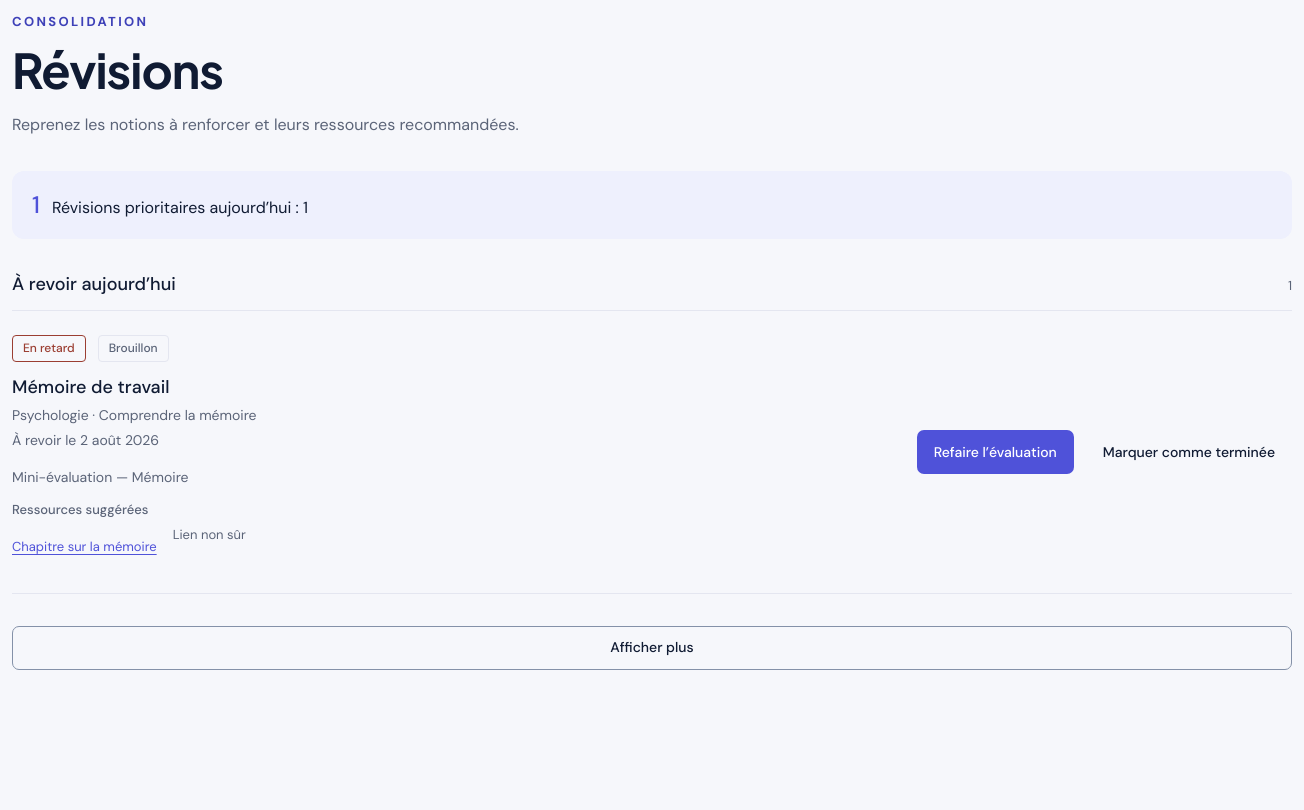
Test: ReviewsPage › conserve les révisions chargées et reprend une page suivante en erreur
The width and height of the screenshot is (1304, 810).
Expected: the heading "Mémoire de travail" is shown, left=12, top=375, right=169, bottom=399
Step 1. Click the button "Afficher plus" → (652, 648), box left=12, top=626, right=1292, bottom=670
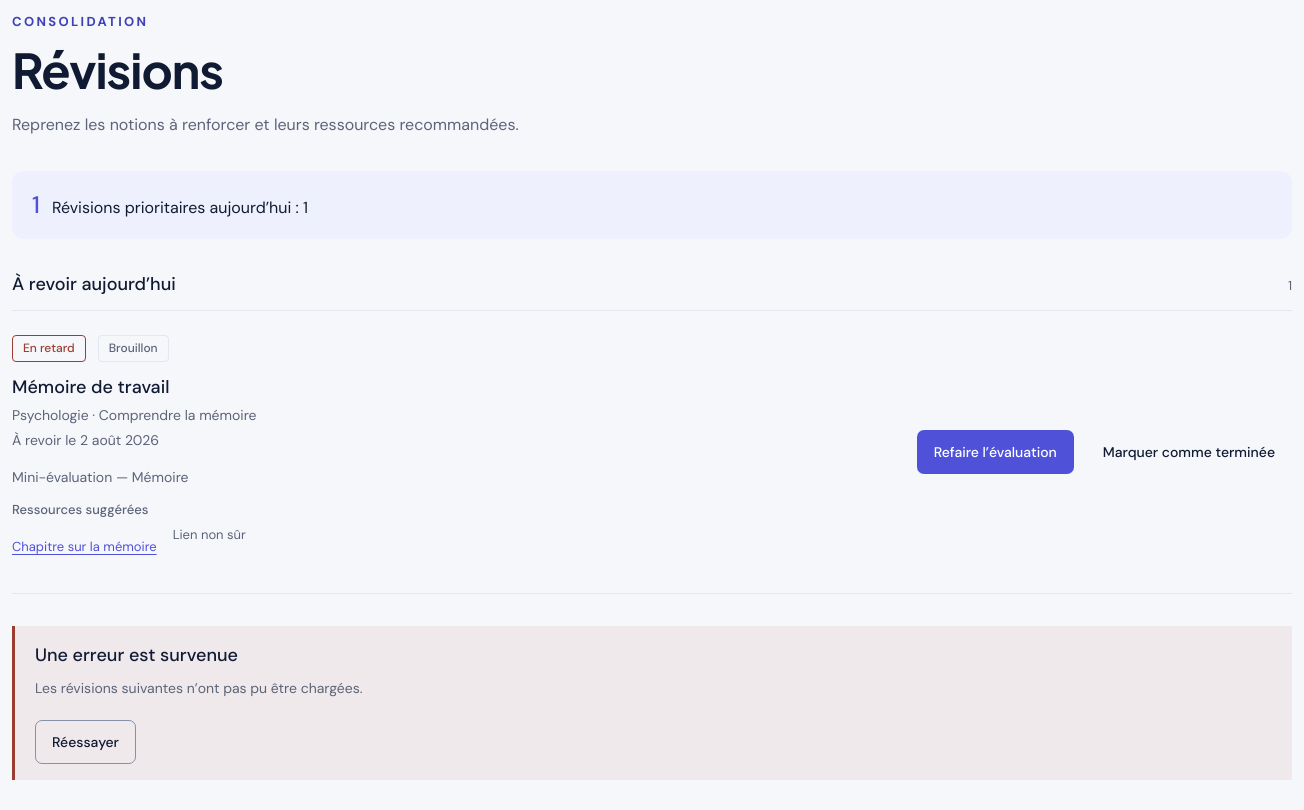
Expected: the heading "Mémoire de travail" is shown, left=12, top=375, right=169, bottom=399
Expected: the text "Les révisions suivantes n’ont pas pu être chargées." is shown, left=35, top=679, right=363, bottom=697
Expected: the button "Afficher plus" is gone
Step 2. Click the button "Réessayer" → (86, 742), box left=35, top=720, right=136, bottom=764
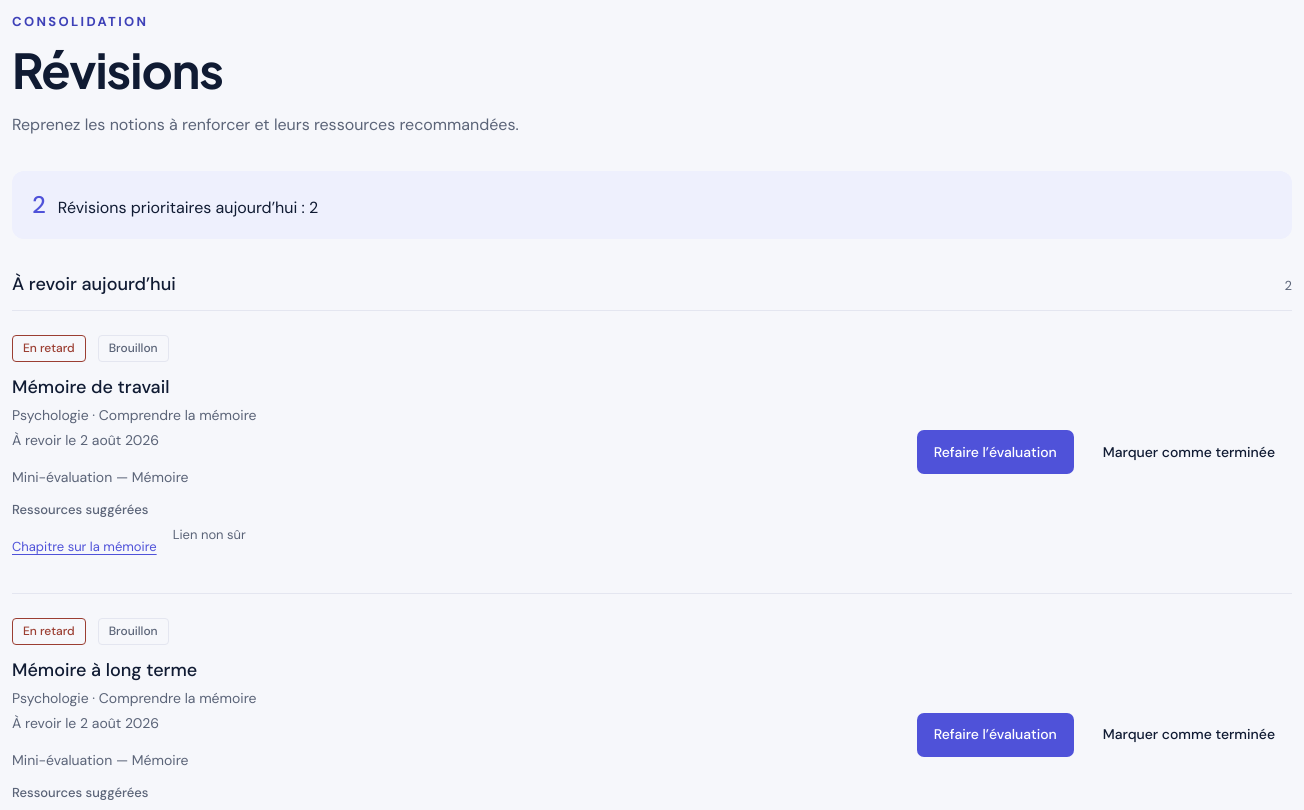
Expected: the heading "Mémoire à long terme" is shown, left=12, top=658, right=197, bottom=682
